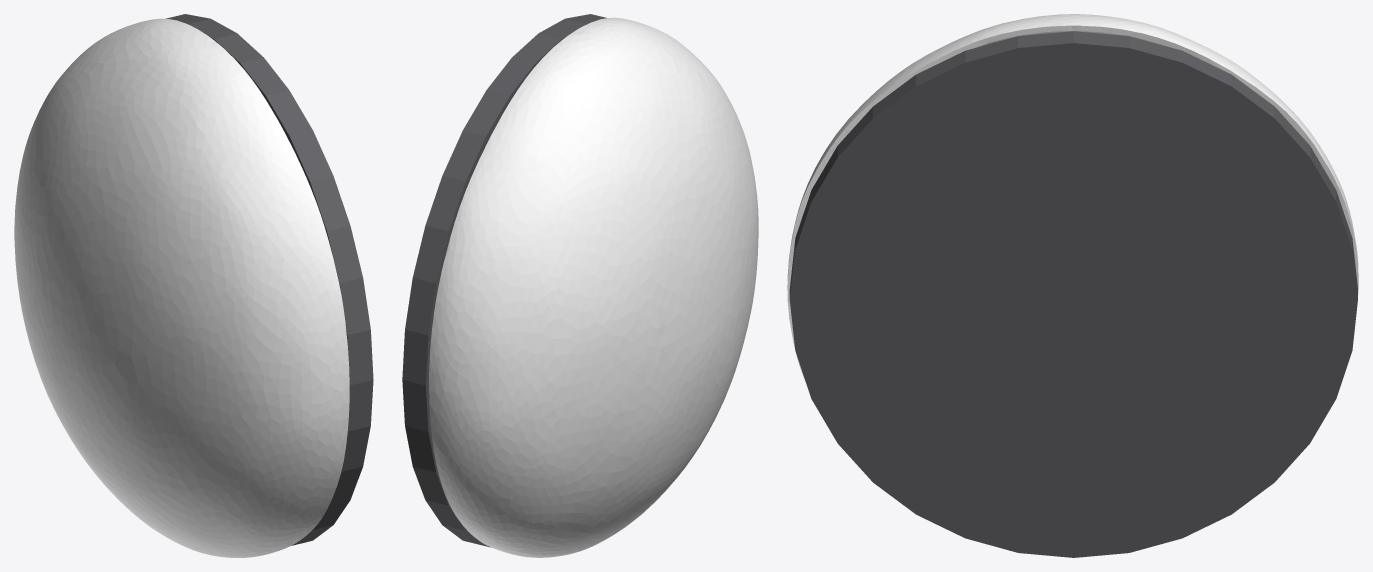
The model's file is googlyeyes.obj.
3 renders of one model, left to right at view 1: azimuth 30°, elevation 25°; view 2: azimuth 150°, elevation 25°; view 3: azimuth 270°, elevation 25°, orthographic. The views are drawn at different scales.
Parts seen in each view (by area): view 1: Eyecasing1, Back1; view 2: Eyecasing1, Back1; view 3: Back1, Eyecasing1.
Part boxes in pixels (x1=…): Eyecasing1: x1=14, y1=18, x2=349, y2=557; Back1: x1=166, y1=14, x2=373, y2=545; Eyecasing1: x1=429, y1=17, x2=758, y2=557; Back1: x1=402, y1=14, x2=606, y2=547; Back1: x1=789, y1=31, x2=1357, y2=557; Eyecasing1: x1=787, y1=14, x2=1358, y2=381.
Size of the model in its own units: 0.6381 by 1.87 by 1.86.
3 materials, 1 textured.
